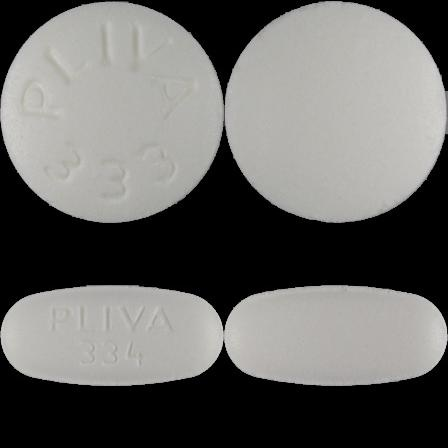0440-1795: (0, 0, 224, 224)
